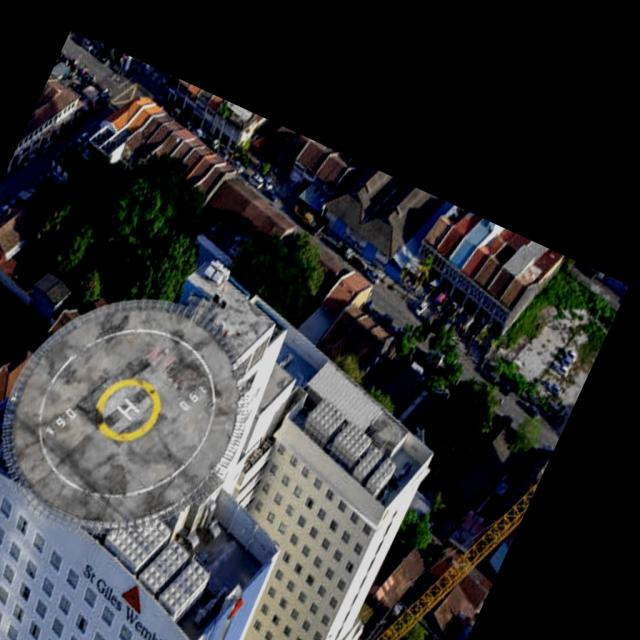helipad: (92, 374, 162, 442)
